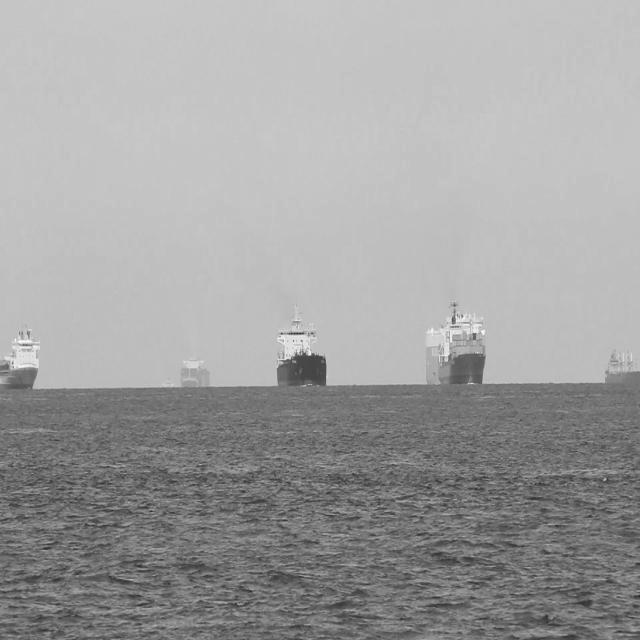ship: (424, 294, 486, 389), (274, 296, 328, 390), (0, 322, 40, 392), (604, 347, 638, 387), (177, 354, 210, 391), (158, 375, 178, 393)
